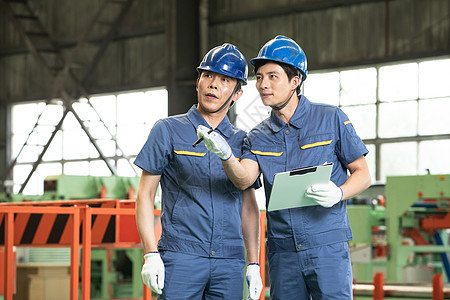safetyhat: (116, 27, 252, 292), (246, 28, 388, 279)
